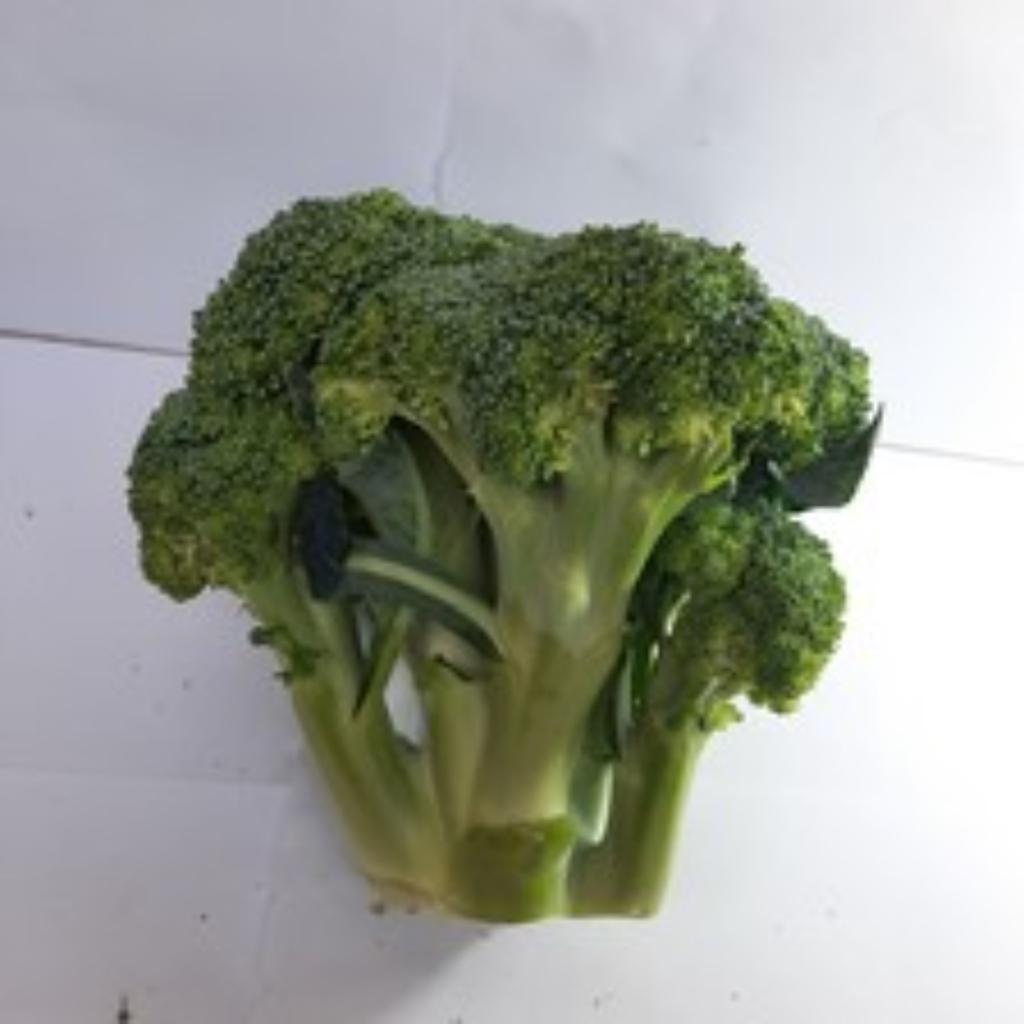Broccoli: (140, 190, 878, 921), (129, 192, 868, 603)
